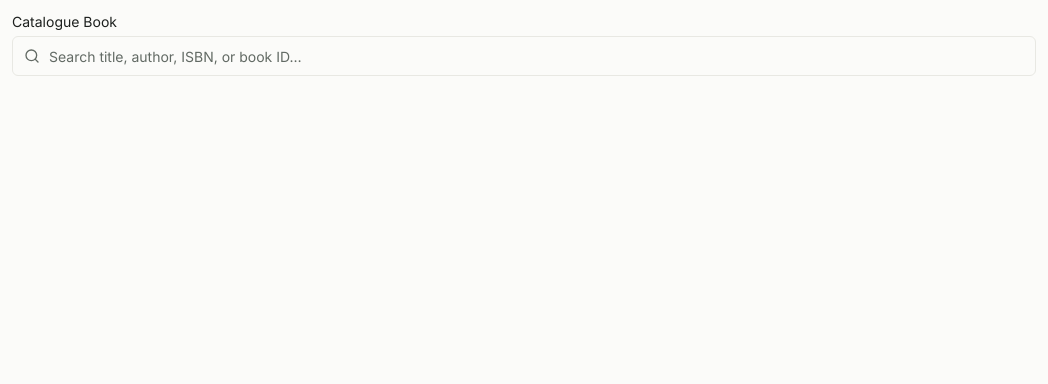
CatalogueSelector › normalizes title-by-author searches before calling the catalogue RPC
The image size is (1048, 384).
Type "  The Gita by Vyasa,  " into the field named "Catalogue Book" at [524, 56], box [12,36,1036,76]
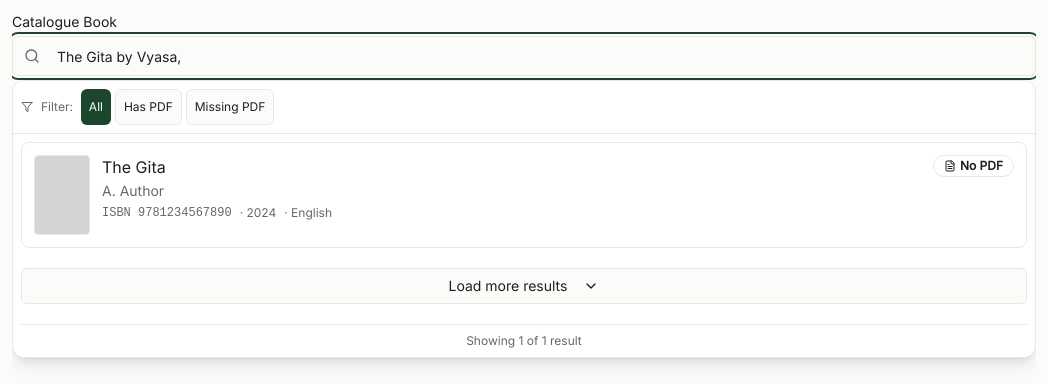
Expected: the option with aria-label "The Gita by A. Author" is shown, [21,142,1027,248]
